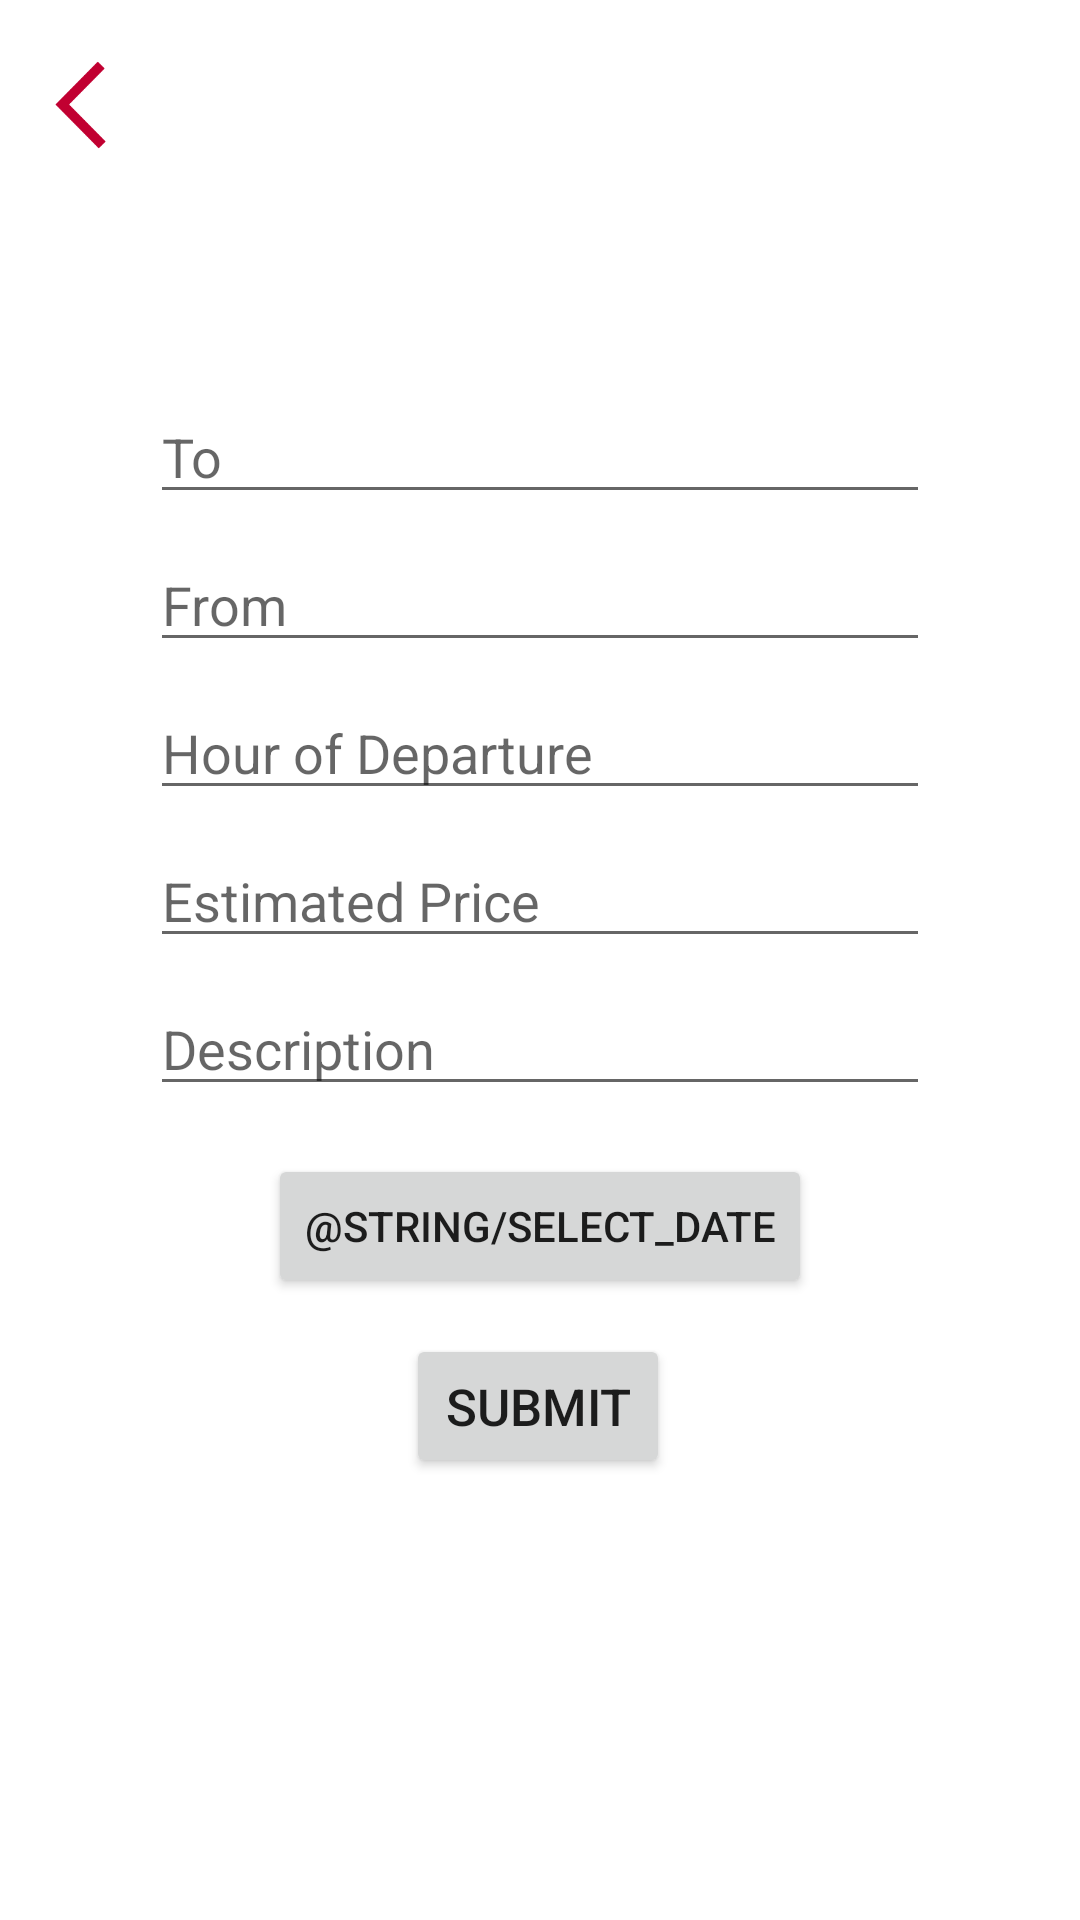

Icon bounding boxes for this 1080×1920 phone screenshot, format rect(x1, y1, x2, y2):
back: rect(55, 62, 106, 148)
